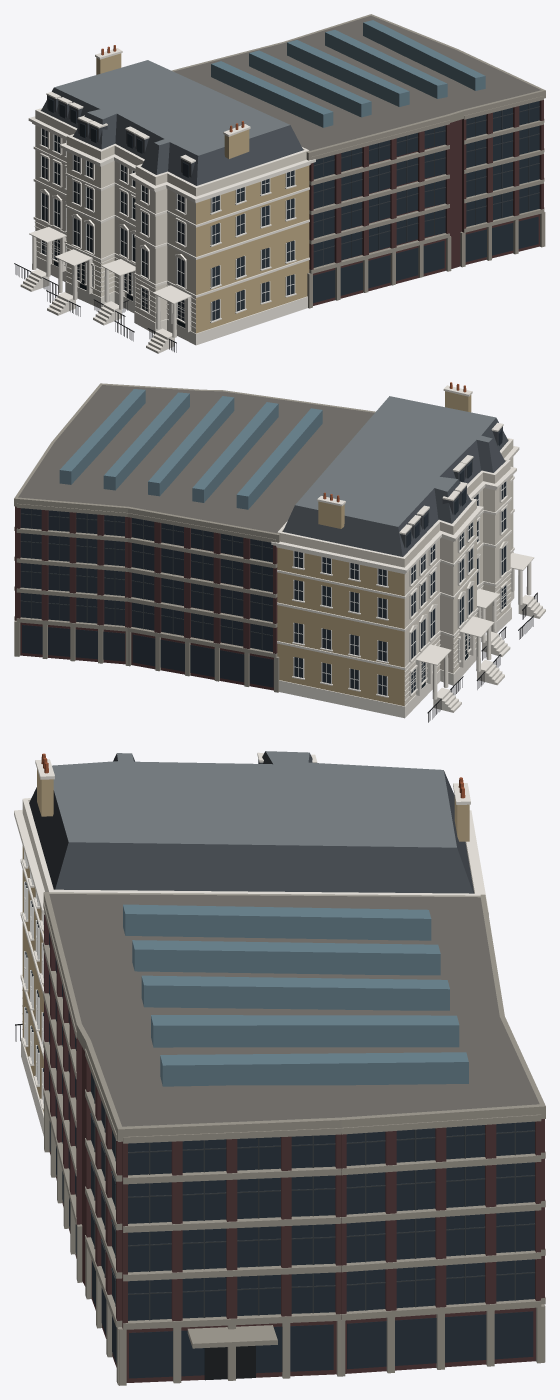
The model's file is rca_stevens_building.glb.
The picture shows the model from 3 angles, top to bottom: view 1: azimuth 30°, elevation 25°; view 2: azimuth 150°, elevation 25°; view 3: azimuth 270°, elevation 25°; orthographic projection. The views are drawn at different scales.
Bounding box in the file's own units: 49.84 × 23.96 × 30.81.
